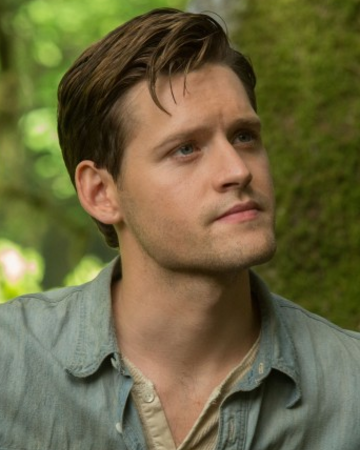Without Helmet: (55, 5, 280, 288)
